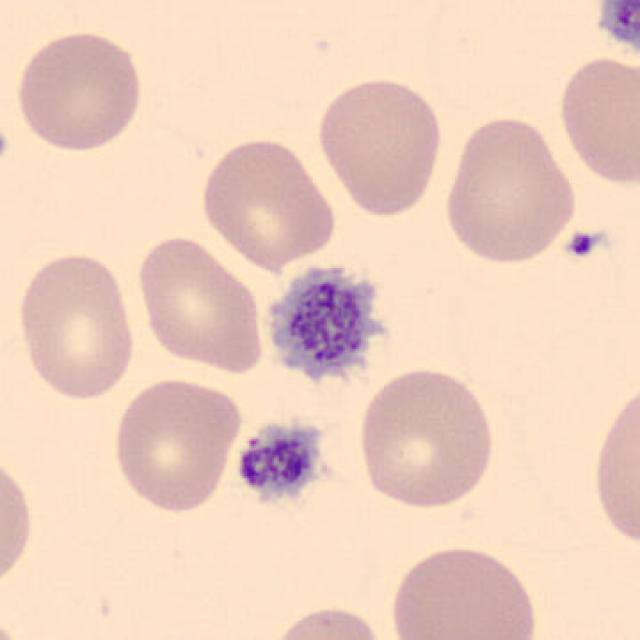Platelets: (258, 261, 391, 390), (233, 418, 325, 506), (592, 2, 640, 53), (562, 227, 602, 261)
RBC: (439, 111, 581, 268), (354, 361, 499, 513), (196, 132, 340, 270), (12, 247, 138, 404), (132, 231, 268, 376), (313, 72, 446, 220), (108, 374, 245, 515), (11, 27, 148, 155), (384, 539, 542, 640), (553, 53, 638, 189), (588, 376, 640, 557), (0, 447, 37, 594), (263, 601, 391, 640), (0, 612, 28, 640)
